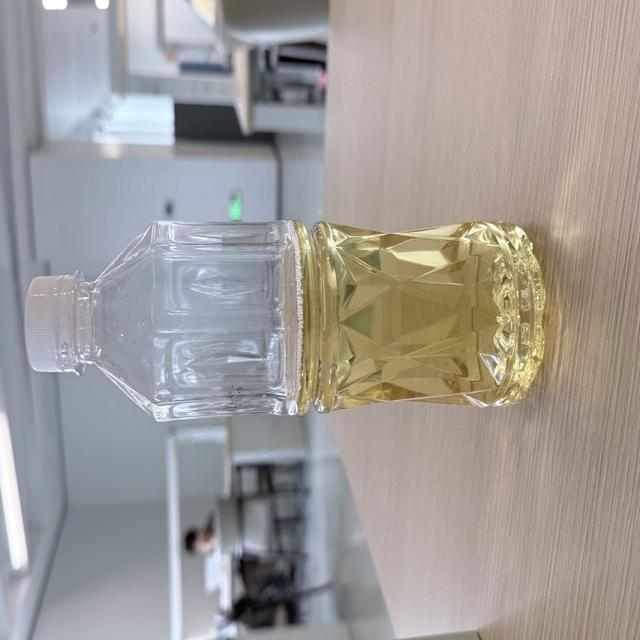medium: (26, 220, 544, 420)
